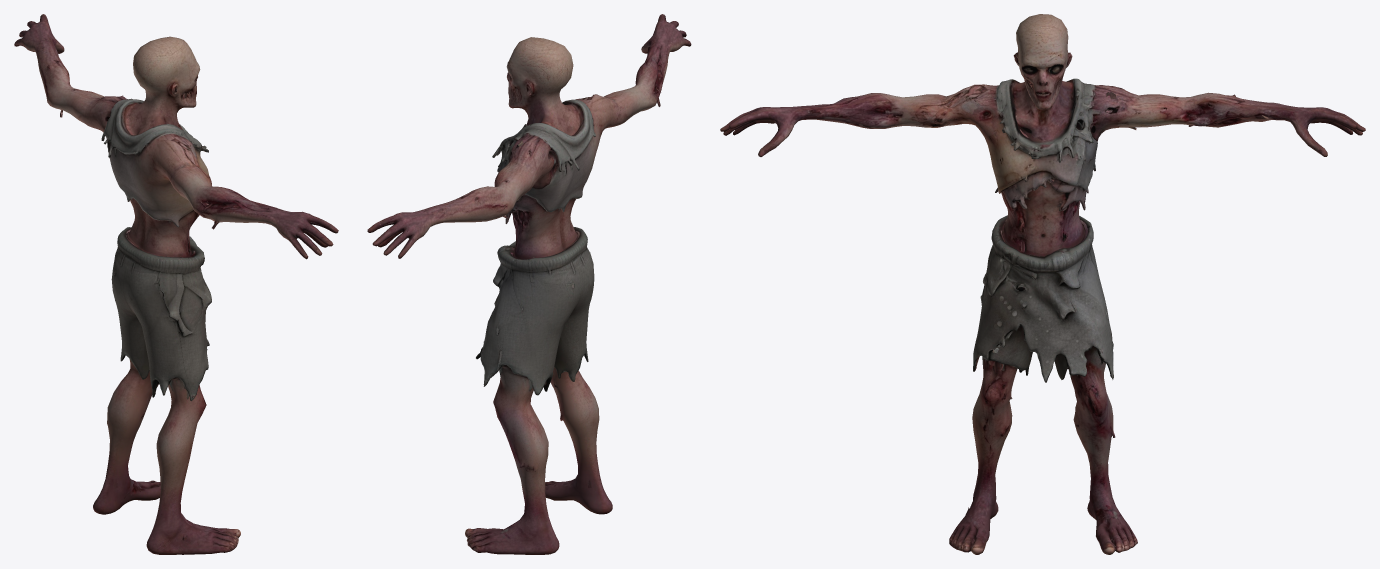
The model's file is zombie+3d+model.glb.
The picture shows the model from 3 angles, left to right: view 1: azimuth 30°, elevation 25°; view 2: azimuth 150°, elevation 25°; view 3: azimuth 270°, elevation 25°; orthographic projection. The views are drawn at different scales.
Visible parts, largest first — view 1: tripo_node_8248a985-ce4c-4d70-94f1-9412c18ceea1; view 2: tripo_node_8248a985-ce4c-4d70-94f1-9412c18ceea1; view 3: tripo_node_8248a985-ce4c-4d70-94f1-9412c18ceea1.
Boxes of the visible parts, box(x1,y1,x2,y2) form: tripo_node_8248a985-ce4c-4d70-94f1-9412c18ceea1: box(14, 14, 338, 554); tripo_node_8248a985-ce4c-4d70-94f1-9412c18ceea1: box(367, 14, 691, 554); tripo_node_8248a985-ce4c-4d70-94f1-9412c18ceea1: box(720, 14, 1365, 554).
Size of the model in its own units: 0.1741 by 0.8667 by 0.9821.
1 material, 1 textured.
